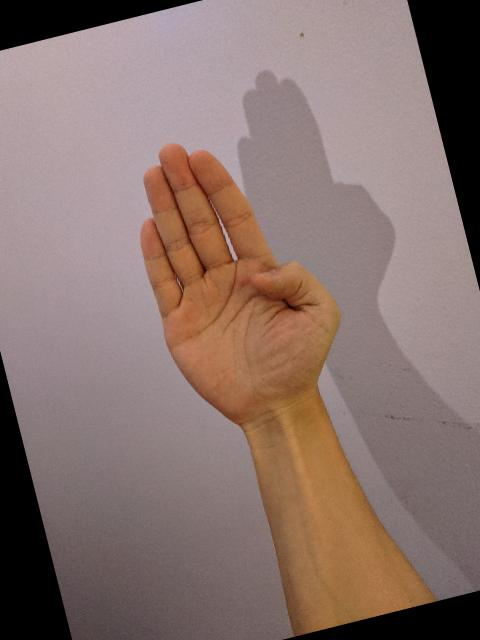B: (110, 107, 368, 451)
